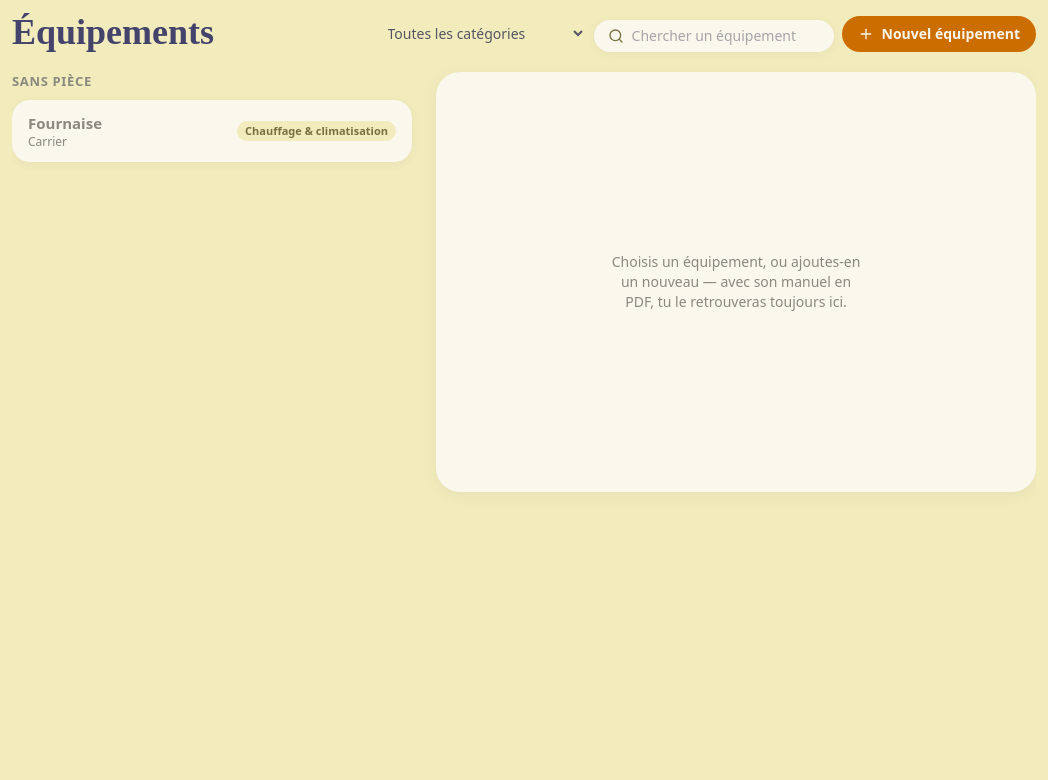
it: « Annuler » sur un équipement existant restaure la fiche du serveur
The image size is (1048, 780).
Click the text "Fournaise" at [65, 122], box [28, 112, 102, 132]
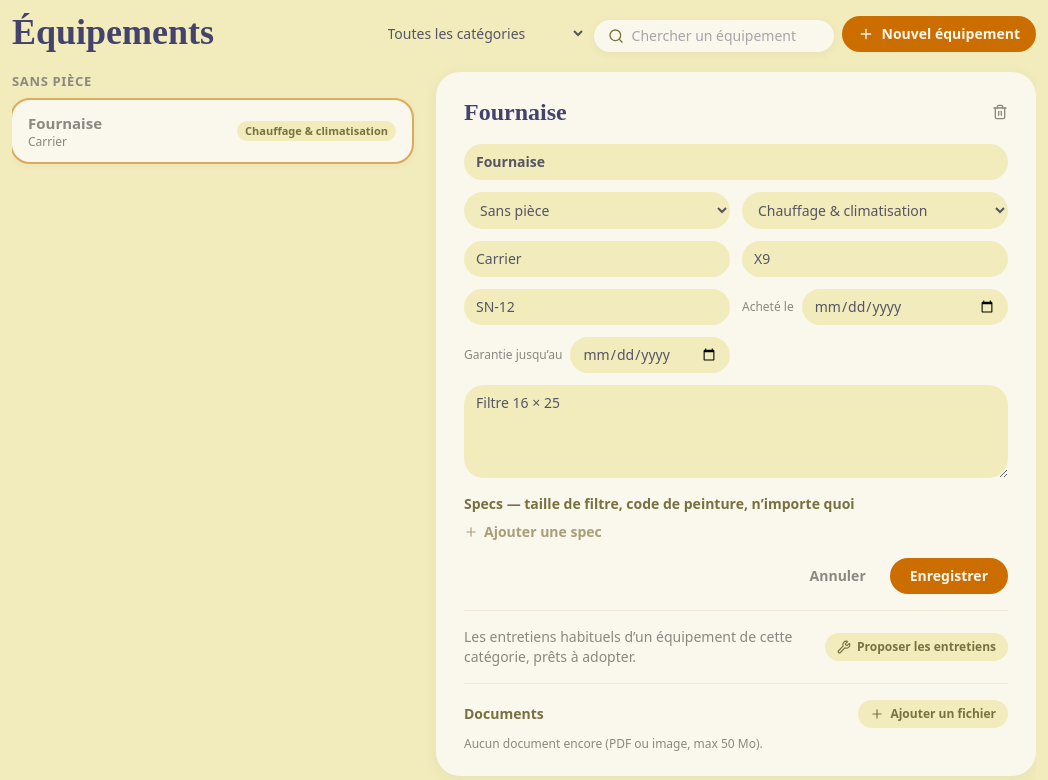
expect the field named "Nom" holds "Fournaise": met
Replace the text in the field named "Nom" with "Thermopompe" at [736, 162], box [464, 144, 1008, 180]
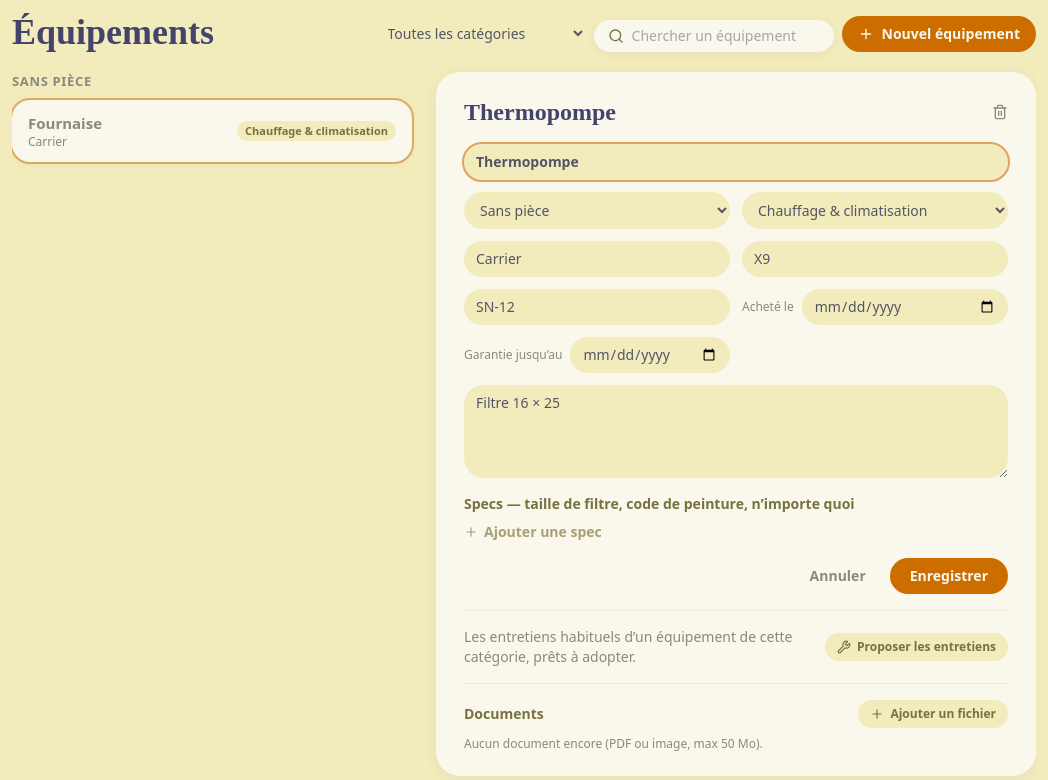
Click the button "Annuler" at [838, 576], box [794, 558, 882, 594]
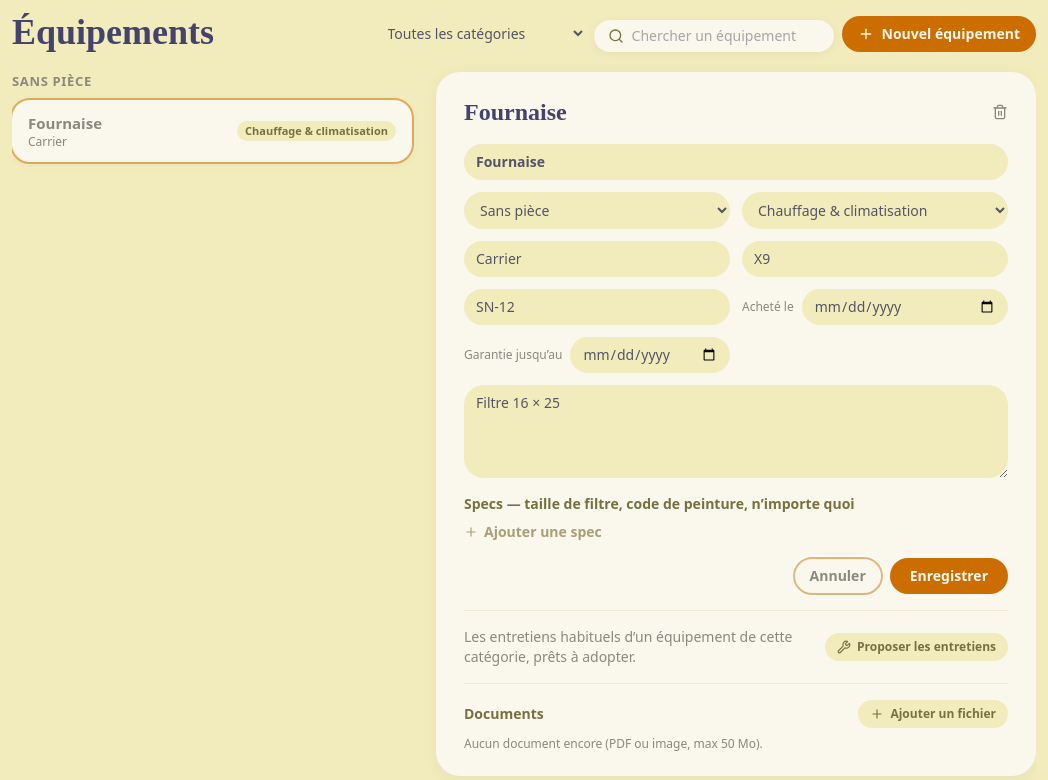
expect the text box named "Notes" holds "Filtre 16 × 25": met, box [464, 385, 1008, 478]
expect the field named "Nom" holds "Fournaise": met, box [464, 144, 1008, 180]
